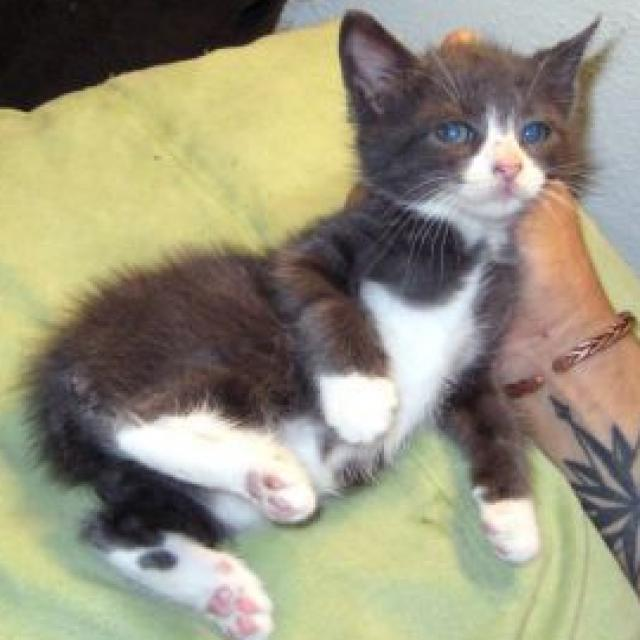American Bobtail: (21, 0, 607, 640)
